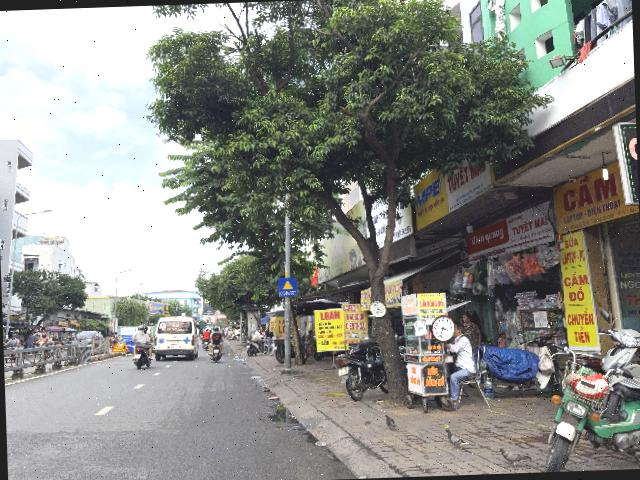khu-vuc-cho-phia-truoc: (278, 278, 298, 297)
